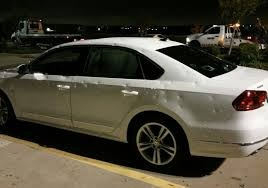Dent: (161, 79, 221, 117), (28, 74, 137, 92), (134, 85, 169, 107)
